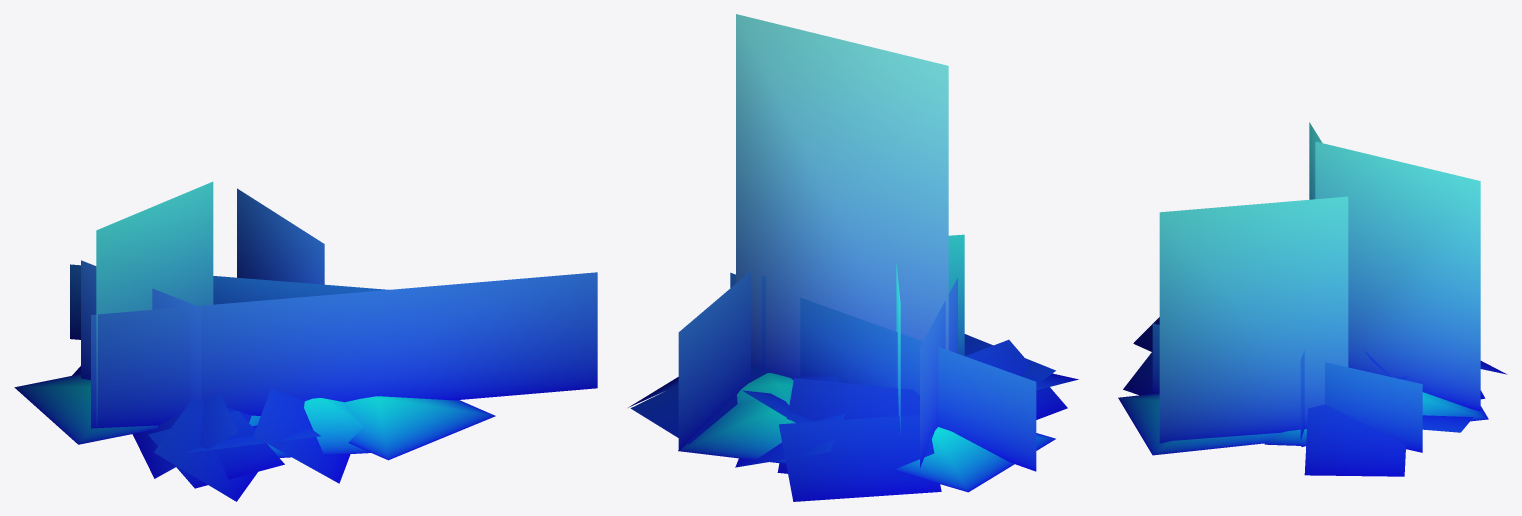
File: SM_Env_Ground_Cover_03.gltf
The picture shows the model from 3 angles, left to right: view 1: azimuth 30°, elevation 25°; view 2: azimuth 150°, elevation 25°; view 3: azimuth 270°, elevation 25°; orthographic projection. The views are drawn at different scales.
Visible parts, largest first — view 1: SM_Env_Ground_Cover_03_LOD0; view 2: SM_Env_Ground_Cover_03_LOD0; view 3: SM_Env_Ground_Cover_03_LOD0.
Boxes of the visible parts, <box> form: SM_Env_Ground_Cover_03_LOD0: <box>14,181,597,501</box>; SM_Env_Ground_Cover_03_LOD0: <box>628,14,1078,501</box>; SM_Env_Ground_Cover_03_LOD0: <box>1118,122,1507,476</box>.
Bounding box in the file's own units: 2.08 × 1.6 × 1.61.
